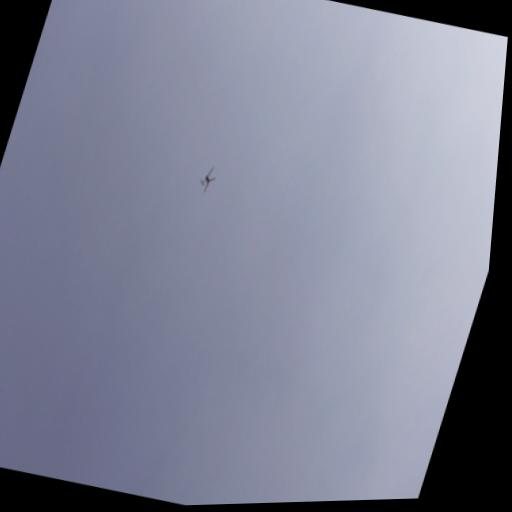drones: (195, 164, 220, 197)
